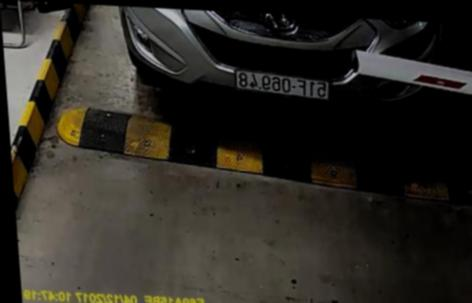License_Plate: (234, 69, 332, 102)
